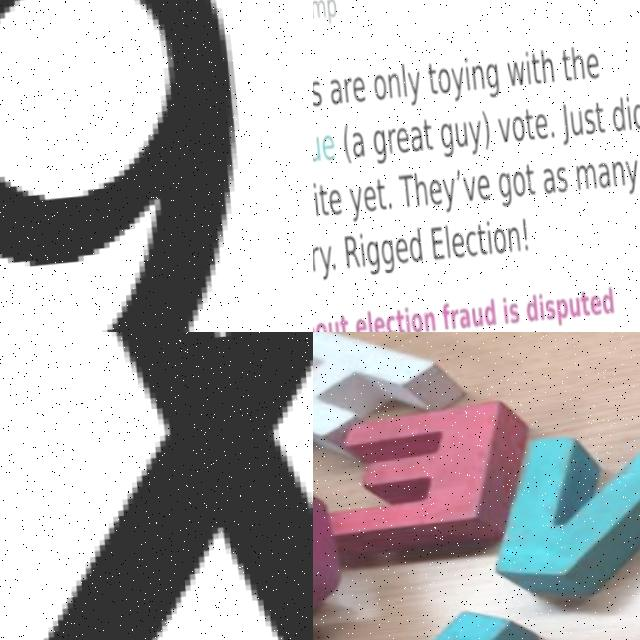9: (0, 0, 264, 332)
A: (594, 161, 609, 192), (538, 168, 553, 198), (327, 78, 341, 109), (407, 126, 421, 155), (454, 307, 469, 332), (349, 130, 361, 159)
C: (461, 230, 475, 259), (381, 314, 392, 332)
D: (607, 97, 624, 136), (405, 226, 420, 263), (479, 296, 492, 328), (521, 293, 534, 324), (629, 97, 640, 132), (598, 288, 611, 317)
E: (427, 226, 442, 261), (325, 188, 341, 218), (473, 174, 489, 204), (447, 230, 462, 262), (350, 73, 365, 104), (583, 54, 599, 83), (531, 113, 547, 142), (425, 178, 441, 207), (359, 185, 374, 215), (318, 133, 333, 162), (393, 126, 408, 155), (391, 237, 406, 266), (585, 294, 599, 319), (368, 315, 382, 332), (350, 315, 362, 332)
F: (436, 302, 447, 332)
G: (482, 62, 498, 101), (368, 129, 384, 166), (495, 172, 510, 209), (362, 239, 377, 276), (377, 238, 392, 275), (436, 122, 451, 159)
H: (313, 332, 460, 449), (411, 171, 426, 209), (538, 49, 553, 84), (568, 47, 583, 82)
I: (622, 97, 630, 133), (461, 56, 468, 92), (483, 221, 490, 257), (523, 52, 529, 88), (356, 232, 362, 268), (499, 298, 506, 326), (400, 306, 406, 332), (535, 294, 540, 321), (313, 182, 316, 216)
J: (556, 104, 568, 147)
L: (399, 64, 405, 98), (441, 224, 447, 258), (362, 309, 368, 332)
M: (572, 165, 595, 193), (313, 0, 324, 19)
N: (385, 72, 400, 101), (608, 162, 623, 190), (469, 65, 482, 93), (505, 227, 517, 255), (418, 310, 431, 332)
O: (370, 73, 385, 102), (508, 115, 523, 144), (508, 171, 523, 200), (489, 227, 504, 256), (434, 68, 449, 96), (405, 310, 420, 332), (313, 322, 324, 332)
P: (552, 299, 565, 330), (325, 0, 335, 24)
R: (341, 234, 356, 269), (342, 77, 352, 105), (384, 129, 395, 153), (445, 307, 455, 330), (313, 245, 317, 273)
S: (580, 108, 595, 138), (552, 167, 566, 196), (540, 298, 553, 324), (504, 302, 517, 327), (313, 79, 319, 107)
T: (395, 173, 413, 210), (557, 49, 570, 83), (425, 62, 436, 97), (420, 118, 431, 152), (521, 108, 532, 142), (373, 178, 384, 212), (473, 223, 484, 257), (592, 103, 603, 135), (315, 184, 326, 216), (528, 55, 539, 86), (523, 164, 533, 198), (391, 307, 402, 332), (576, 292, 586, 319), (335, 314, 345, 332)
U: (567, 109, 582, 138), (451, 120, 465, 150), (466, 307, 481, 331), (563, 297, 578, 320), (323, 320, 336, 332), (313, 134, 316, 162)
V: (480, 419, 640, 608), (494, 117, 510, 145), (459, 176, 475, 204)
W: (502, 61, 525, 89)
X: (0, 332, 313, 640)
Y: (438, 178, 454, 217), (465, 119, 481, 157), (448, 67, 464, 103), (405, 70, 420, 108), (346, 187, 361, 225), (623, 161, 638, 199), (316, 244, 331, 282)
